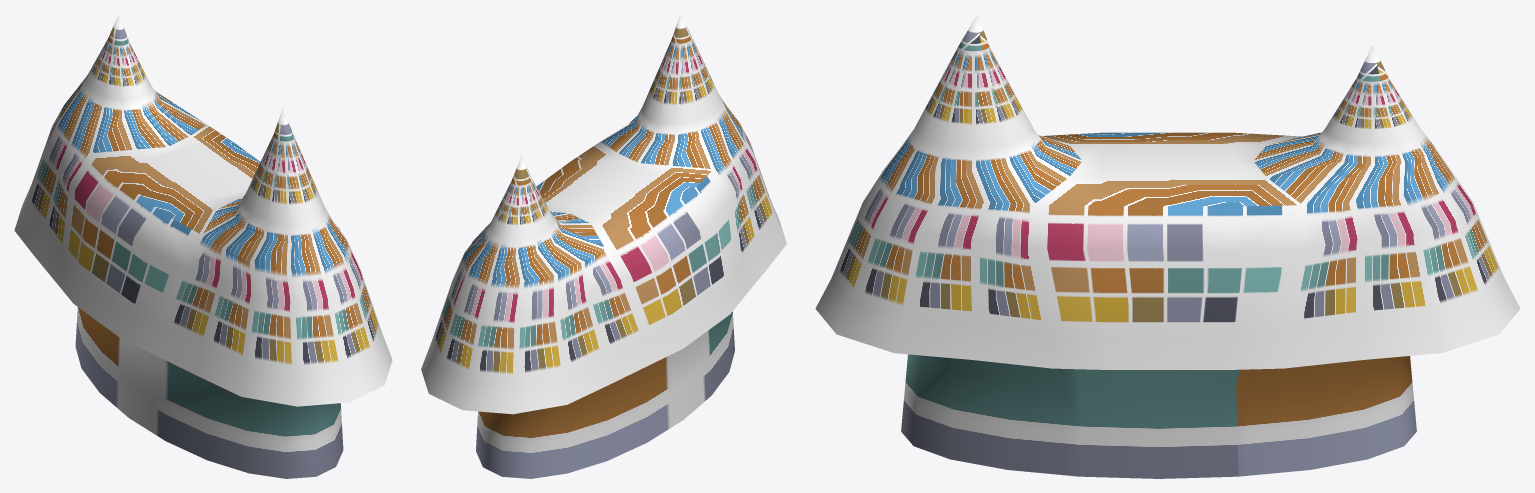
The model's file is bigtent.fbx.
The picture shows the model from 3 angles, left to right: view 1: azimuth 30°, elevation 25°; view 2: azimuth 150°, elevation 25°; view 3: azimuth 270°, elevation 25°; orthographic projection. The views are drawn at different scales.
Parts seen in each view (by area): view 1: pCone4; view 2: pCone4; view 3: pCone4.
Part boxes in pixels (x1=…): pCone4: x1=14, y1=14, x2=392, y2=478; pCone4: x1=421, y1=14, x2=786, y2=478; pCone4: x1=815, y1=14, x2=1520, y2=478.
Size of the model in its own units: 24.43 by 38.33 by 58.85.
